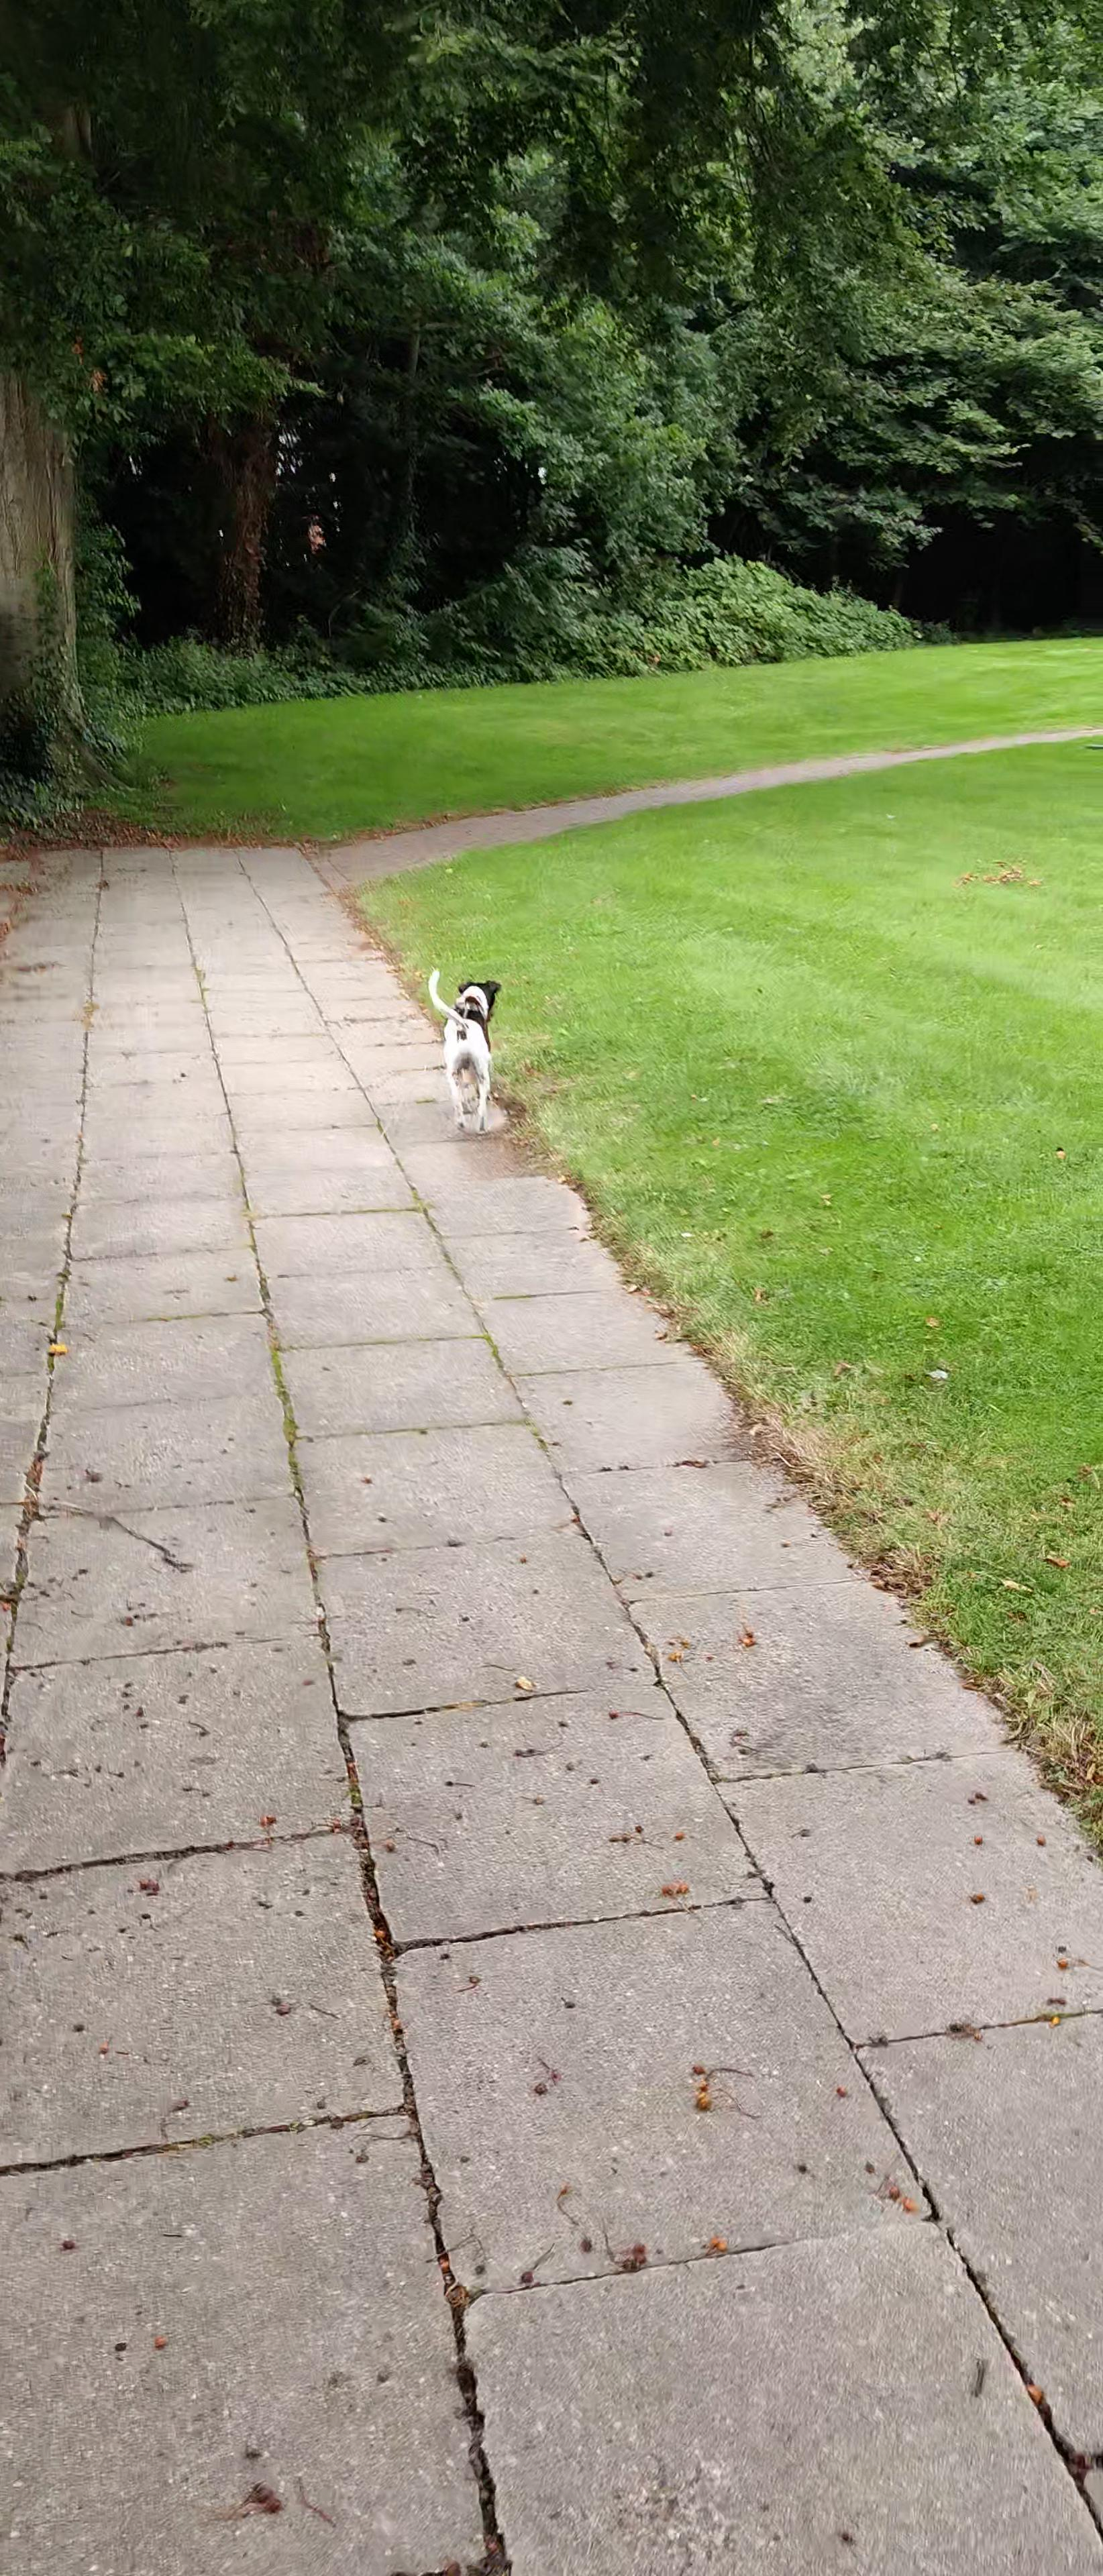Dog: (418, 966, 508, 1138)
